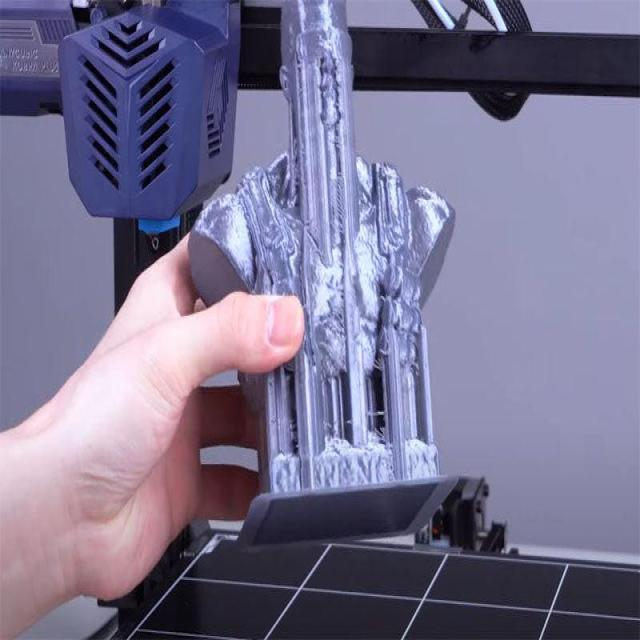Without deffect: (182, 0, 460, 559)
